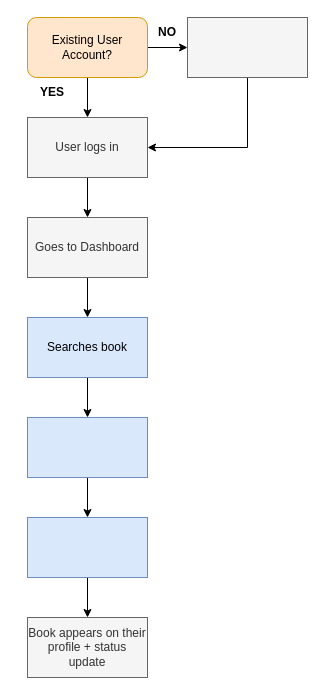
This 325x695 diagram has some shape labels left out. Here are the shapes that lost their labels. From the top down, the centre of each, then its label:
At [247,47]: "User registers an account".
At [87,447]: "Adds to shelf with status (Read, Currently Reading, etc.)".
At [87,547]: "Optional: Add tags, review, rating, mood, music, location".
